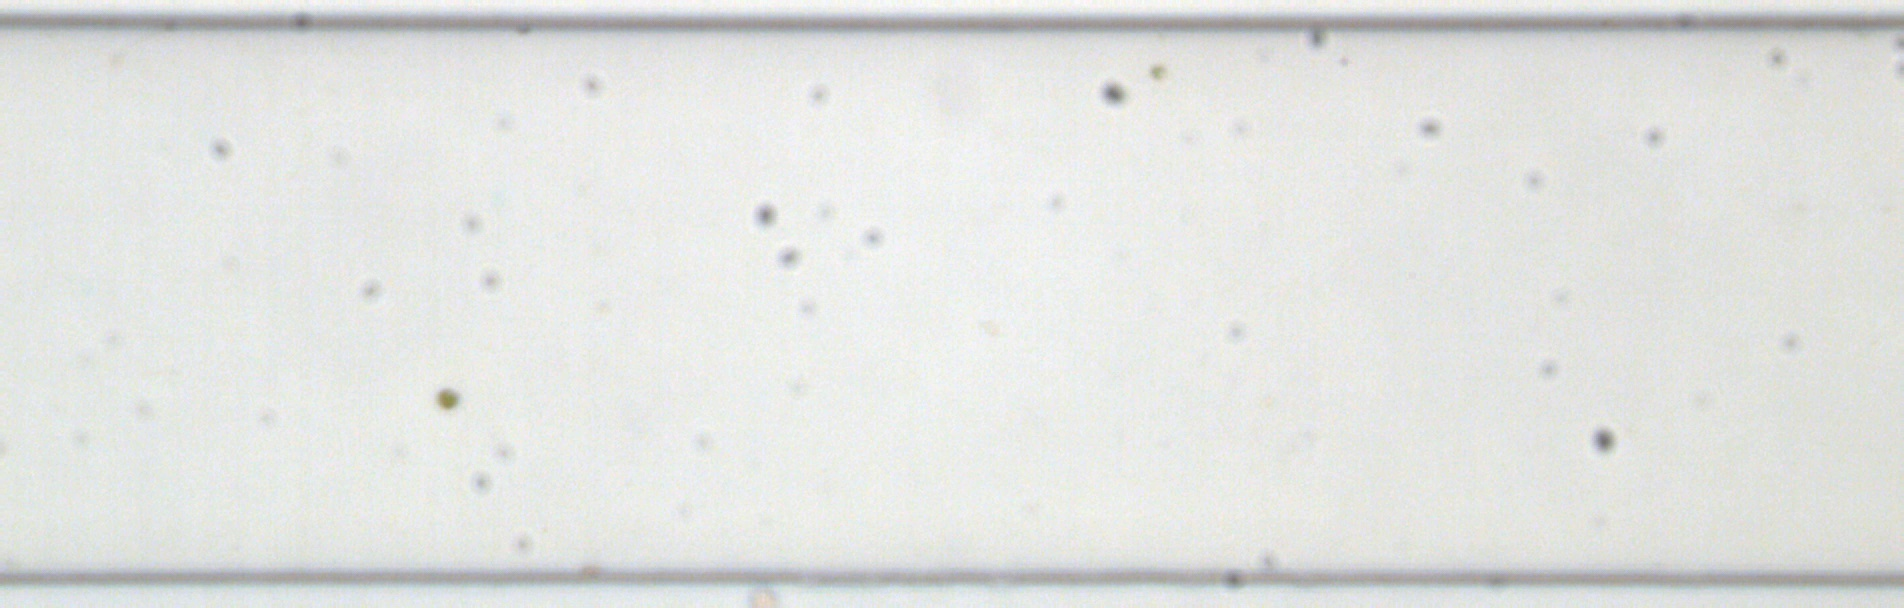Chlorella: (435, 387, 460, 411), (1147, 62, 1167, 80)
